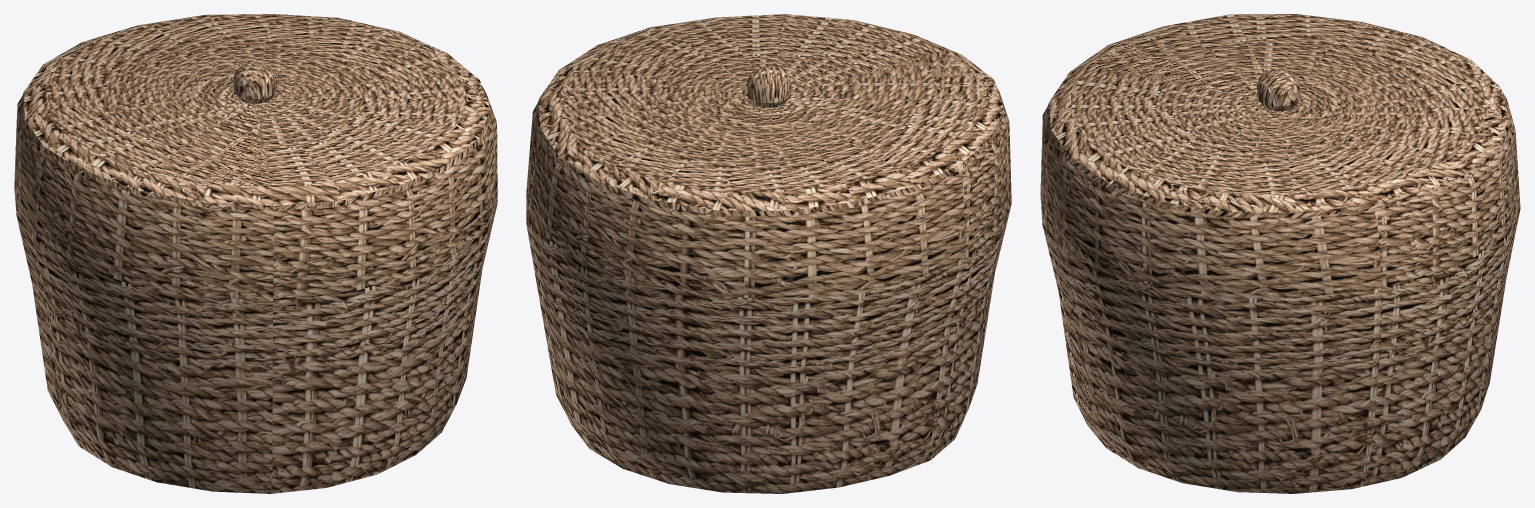
File: Korb.fbx
3 renders of one model, left to right at view 1: azimuth 30°, elevation 25°; view 2: azimuth 150°, elevation 25°; view 3: azimuth 270°, elevation 25°, orthographic.
Visible parts, largest first — view 1: Circle, Circle.001; view 2: Circle, Circle.001; view 3: Circle, Circle.001.
Boxes of the visible parts, box(x1,y1,x2,y2) form: Circle: box(14, 86, 497, 493); Circle.001: box(22, 14, 492, 211); Circle: box(526, 86, 1011, 493); Circle.001: box(537, 14, 1004, 216); Circle: box(1040, 92, 1520, 493); Circle.001: box(1047, 14, 1510, 218).
Bounding box in the file's own units: 24.4 × 19.3 × 24.4.
